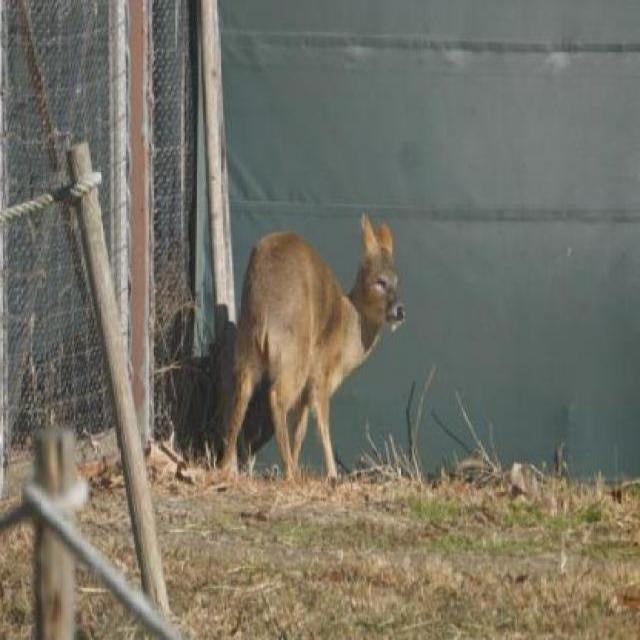deer: (237, 212, 408, 491)
